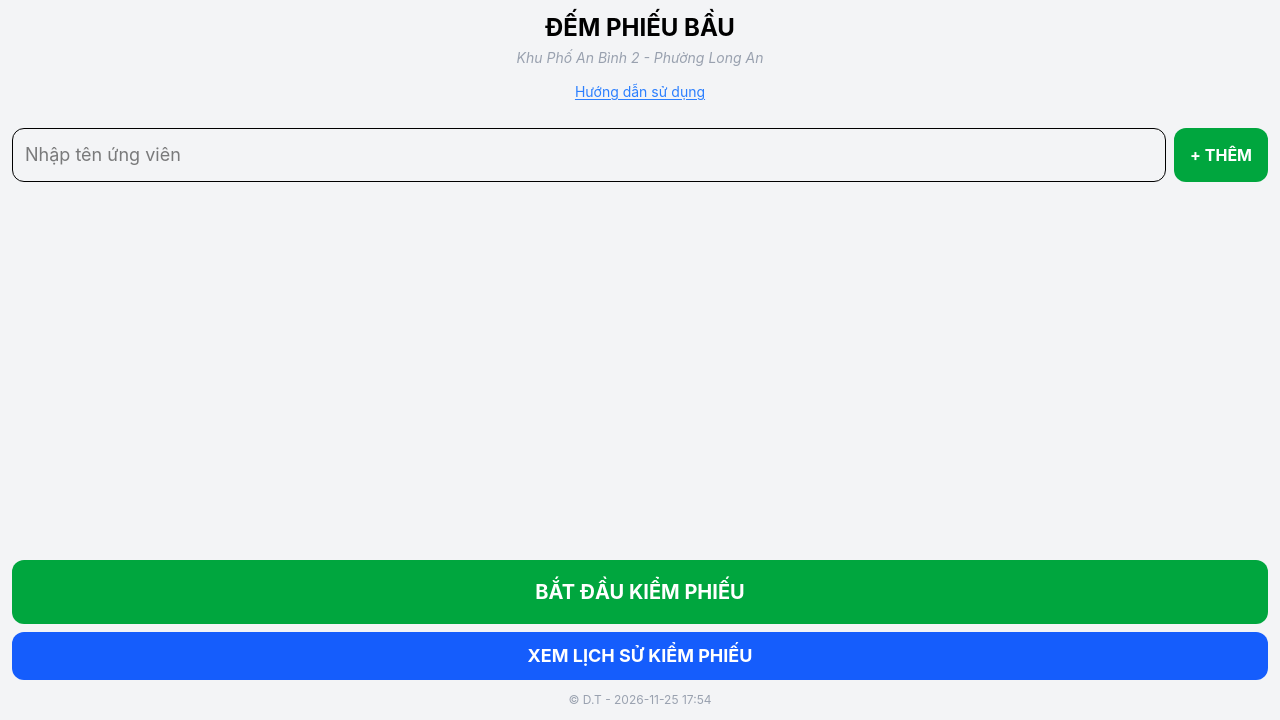
Test case: Setup screen › adds a candidate by pressing Enter
Type "Bob" into the field with placeholder "Nhập tên ứng viên" at [589, 155], box [12, 128, 1166, 182]
Then press Enter
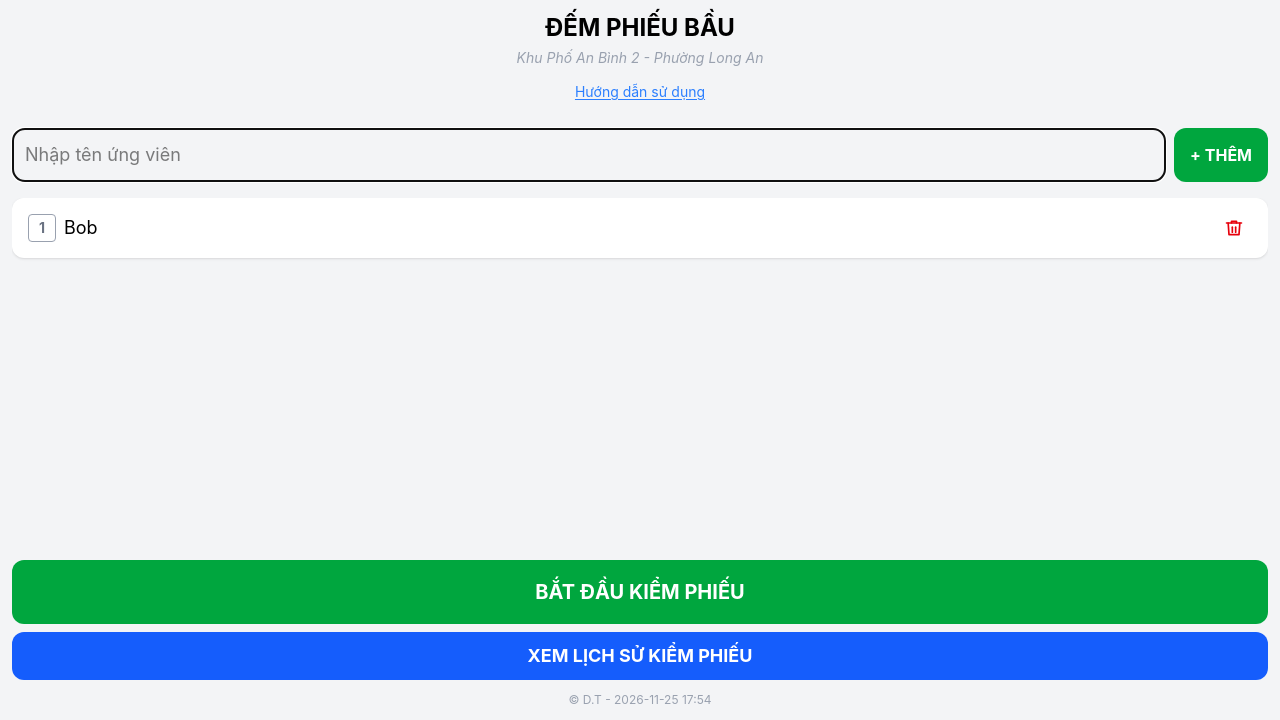
Result: the text "Bob" is shown at [64, 217, 98, 238]
